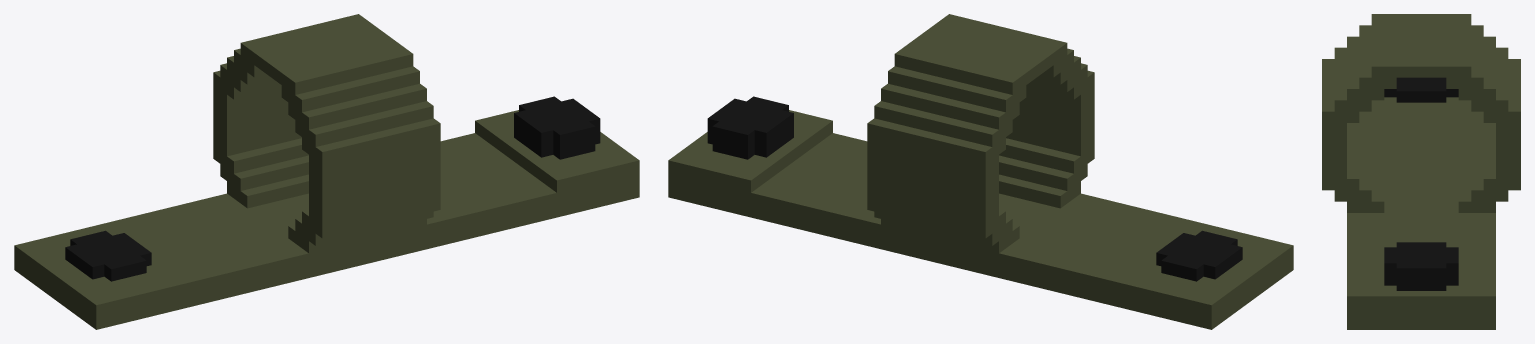
Rendered from belt_loop_small.glb.
3 renders of one model, left to right at view 1: azimuth 30°, elevation 25°; view 2: azimuth 150°, elevation 25°; view 3: azimuth 270°, elevation 25°, orthographic. The views are drawn at different scales.
Visible parts, largest first — view 1: belt_loop_small:compound; view 2: belt_loop_small:compound; view 3: belt_loop_small:compound.
Boxes of the visible parts, x1,y1,x2,y2 form: belt_loop_small:compound: (14,14,639,329); belt_loop_small:compound: (668,14,1293,329); belt_loop_small:compound: (1322,14,1520,329).
Bounding box in the file's own units: 0.092 × 0.03 × 0.032.
